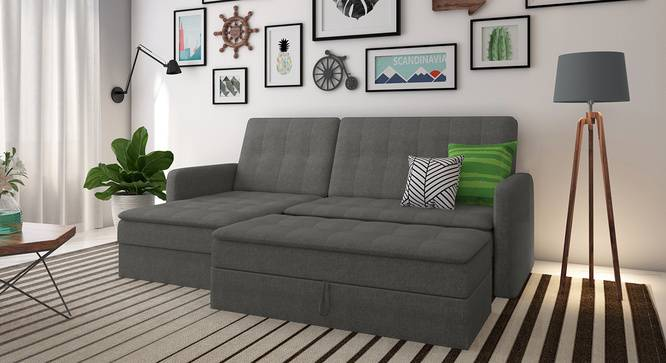chairs: (114, 109, 542, 351)
